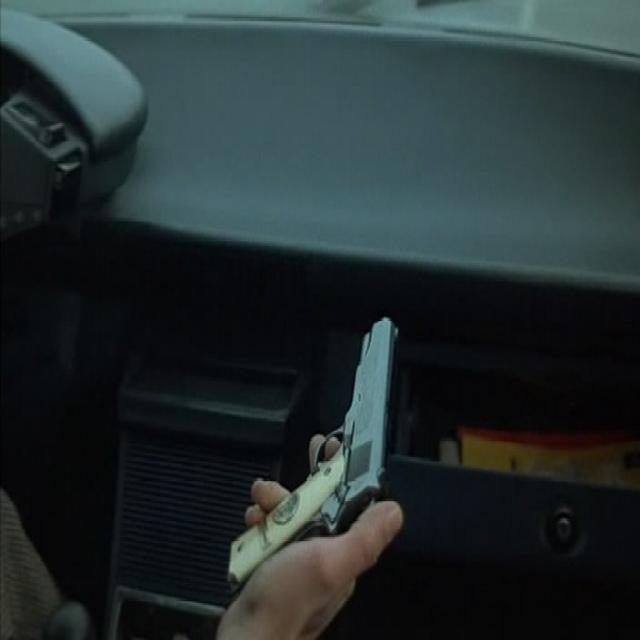gun-knife-thesis - v11 Yolov5 augmented: (225, 308, 403, 597)
